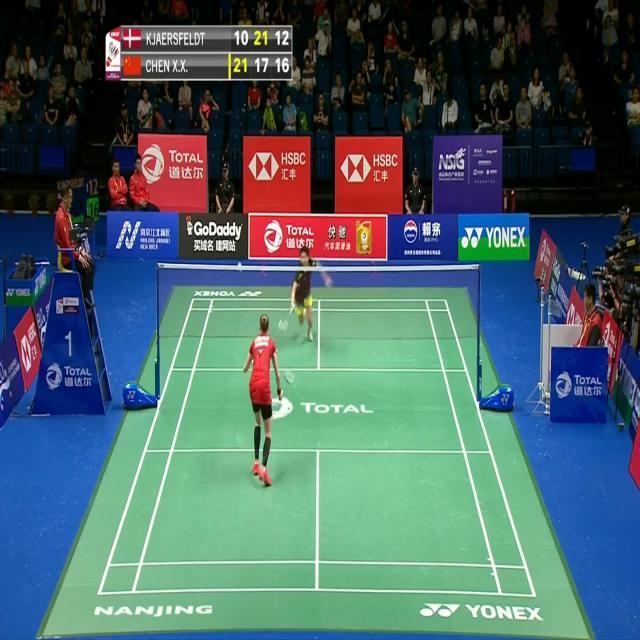Player1: (241, 308, 295, 492)
Player2: (288, 234, 326, 360)
